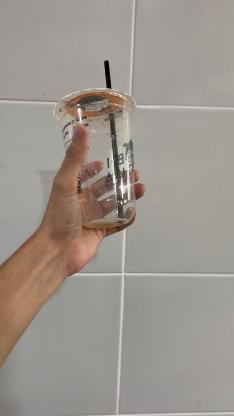Plastic Cup: (52, 87, 140, 233)
